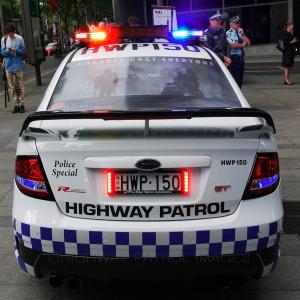Vehicle-registration-plate: (116, 172, 184, 195)
